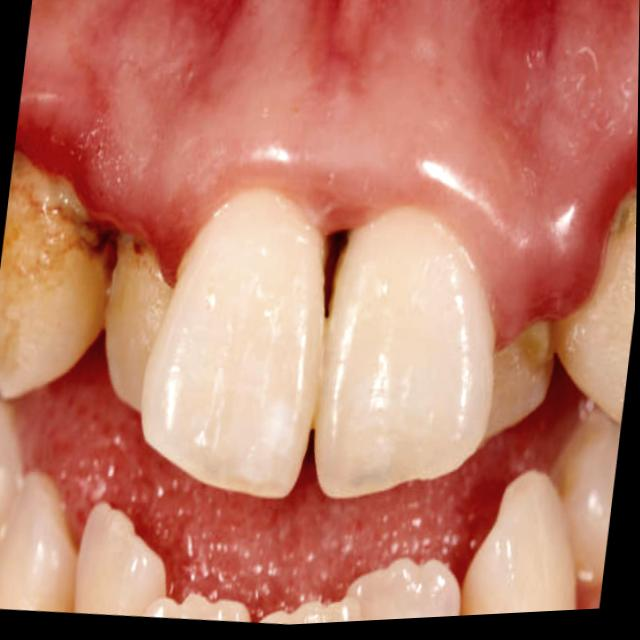gingivitis: (15, 0, 640, 342)
